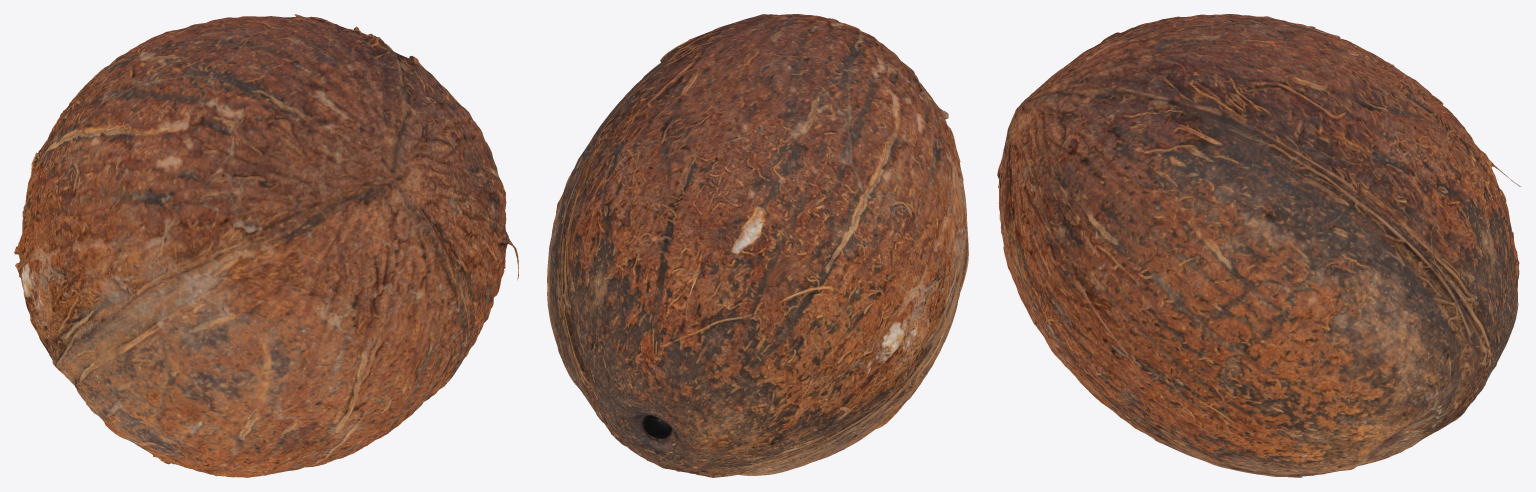
File: coconut shell.fbx
The picture shows the model from 3 angles, left to right: view 1: azimuth 30°, elevation 25°; view 2: azimuth 150°, elevation 25°; view 3: azimuth 270°, elevation 25°; orthographic projection. The views are drawn at different scales.
Visible parts, largest first — view 1: Model; view 2: Model; view 3: Model.
Boxes of the visible parts, left/top/right/bottom form: Model: left=14, top=14, right=518, bottom=477; Model: left=547, top=14, right=968, bottom=477; Model: left=997, top=14, right=1520, bottom=477.
Size of the model in its own units: 1415 by 1477 by 1652.
